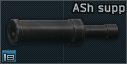ASh-12 12.7x55 tactical sound suppressor: (0, 0, 127, 64)
